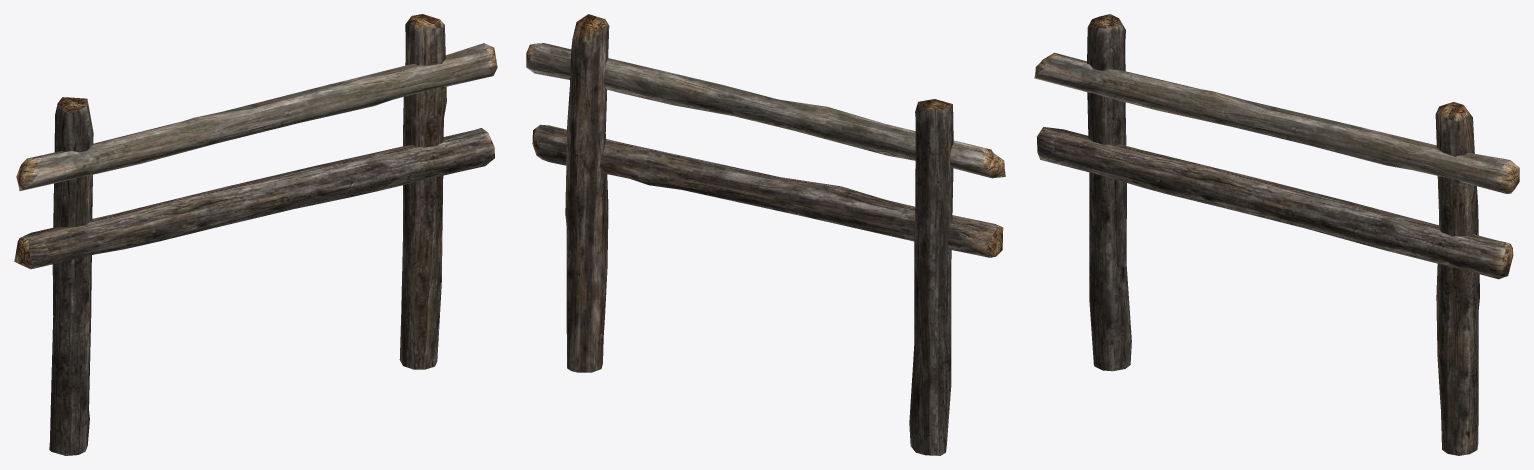
The model's file is o_mdl_env_propFenceLogA-transformed.glb.
3 views of the same model, side by side, from view 1: azimuth 30°, elevation 25°; view 2: azimuth 150°, elevation 25°; view 3: azimuth 330°, elevation 25° (orthographic). The views are drawn at different scales.
Visible parts, largest first — view 1: default; view 2: default; view 3: default.
Part boxes in pixels (<box>): default: <box>14,14,497,455</box>; default: <box>526,14,1005,455</box>; default: <box>1034,14,1519,455</box>.
Size of the model in its own units: 2.78 by 1.94 by 0.3042.
1 material, 1 textured.
